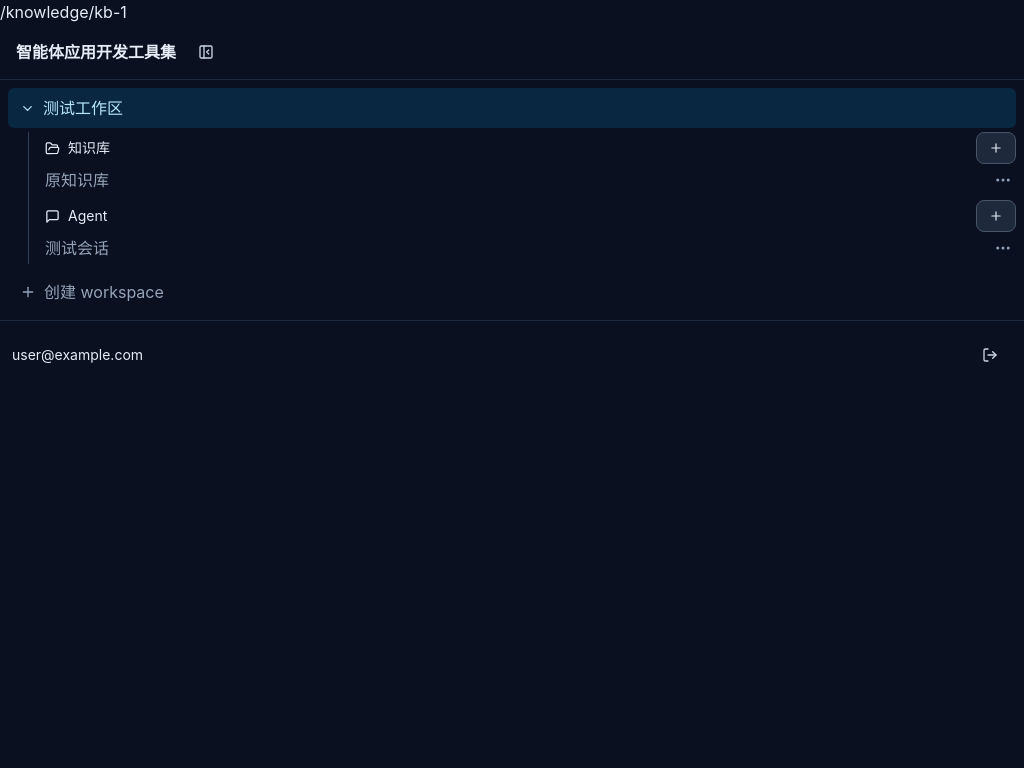
it: knowledge deletion requires confirmation and reports bound sessions
Click the button named "知识库操作：原知识库" at (1003, 180), box top-left (990, 167), bottom-right (1016, 193)
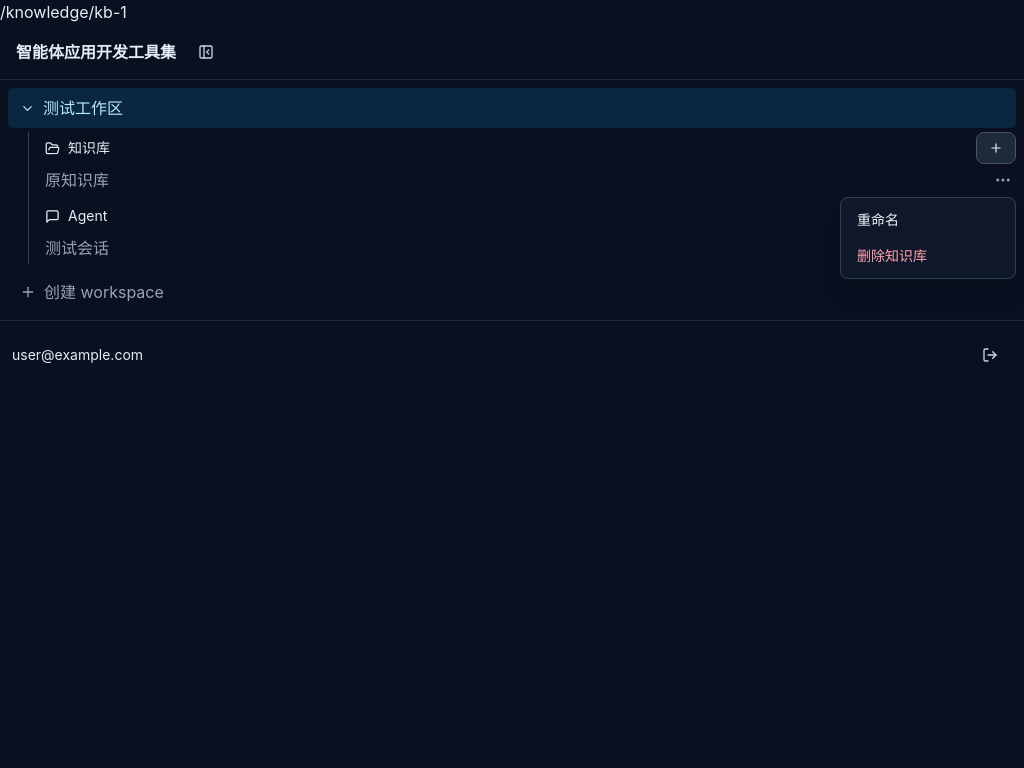
Click the menu item "删除知识库" at (928, 256), box top-left (845, 238), bottom-right (1011, 274)
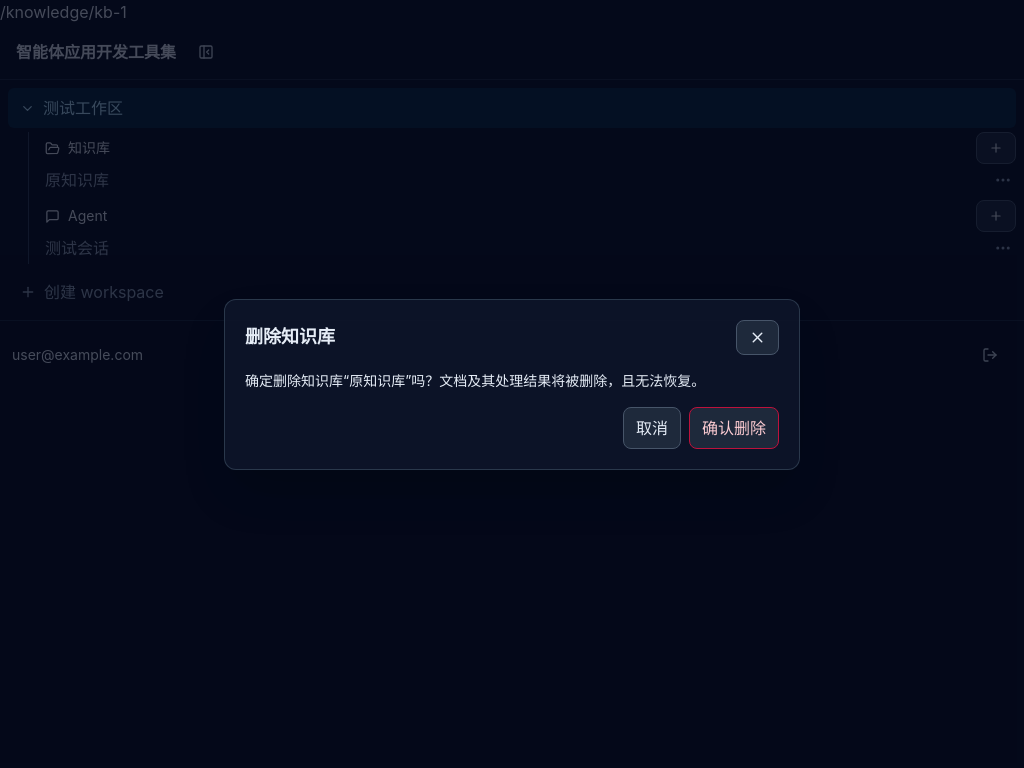
Click the button "取消" at (652, 428), box top-left (623, 406), bottom-right (681, 448)
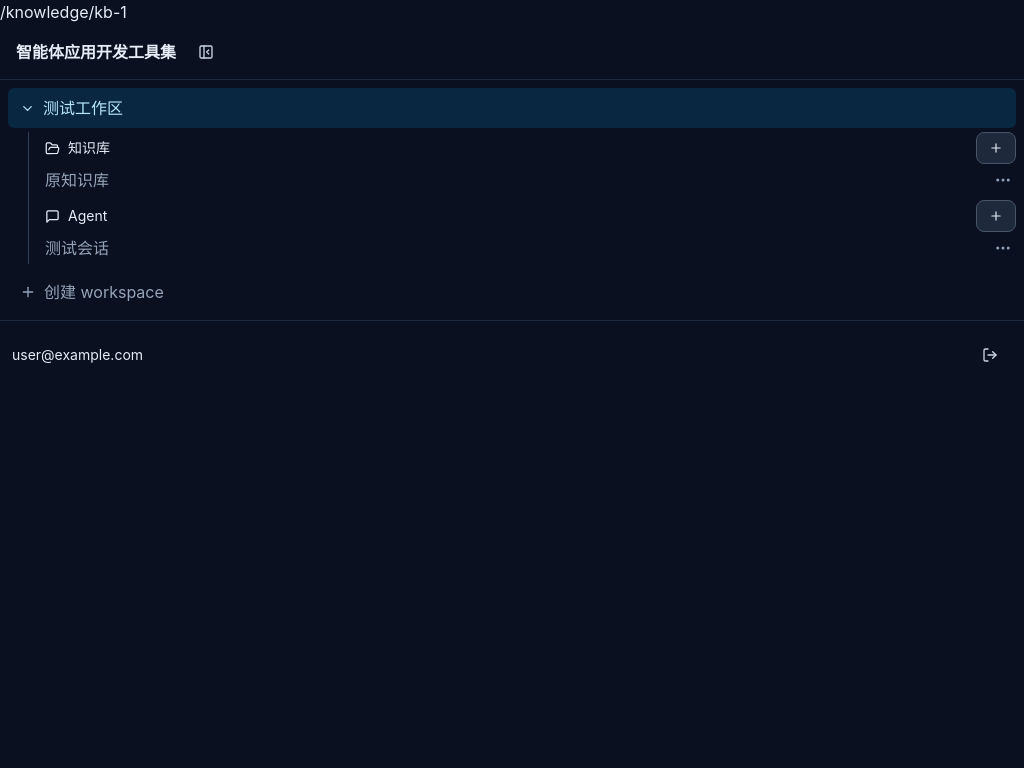
Click the button named "知识库操作：原知识库" at (1003, 180), box top-left (990, 167), bottom-right (1016, 193)
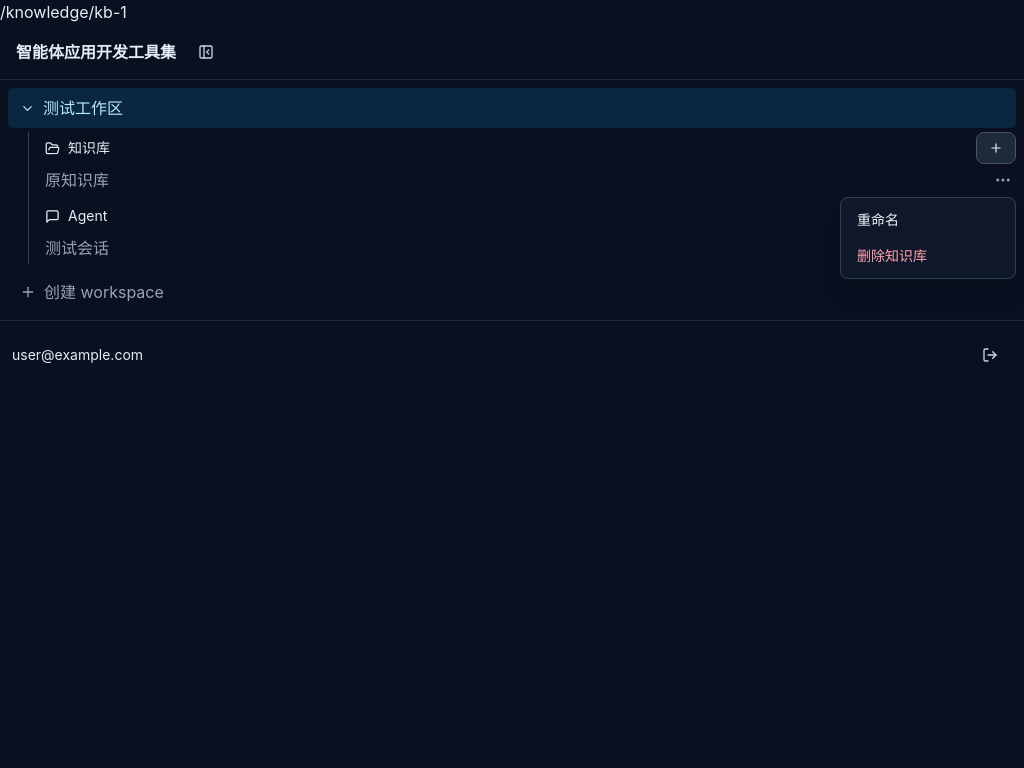
Click the menu item "删除知识库" at (928, 256), box top-left (845, 238), bottom-right (1011, 274)
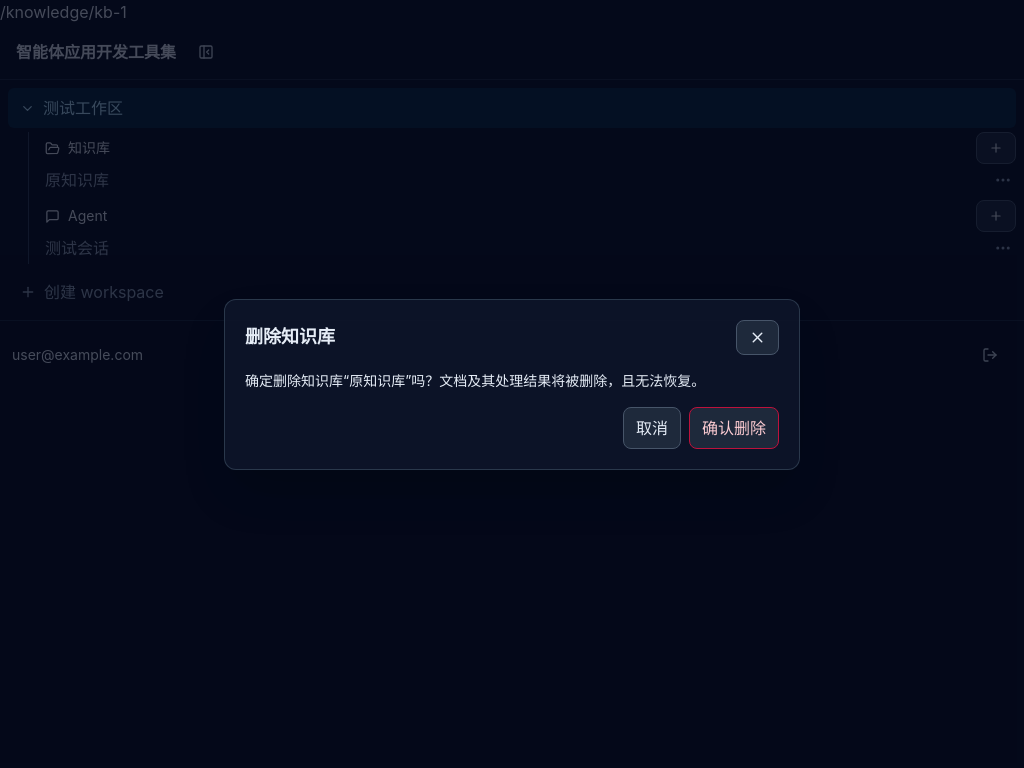
Click the button "确认删除" at (734, 428), box top-left (689, 406), bottom-right (779, 448)
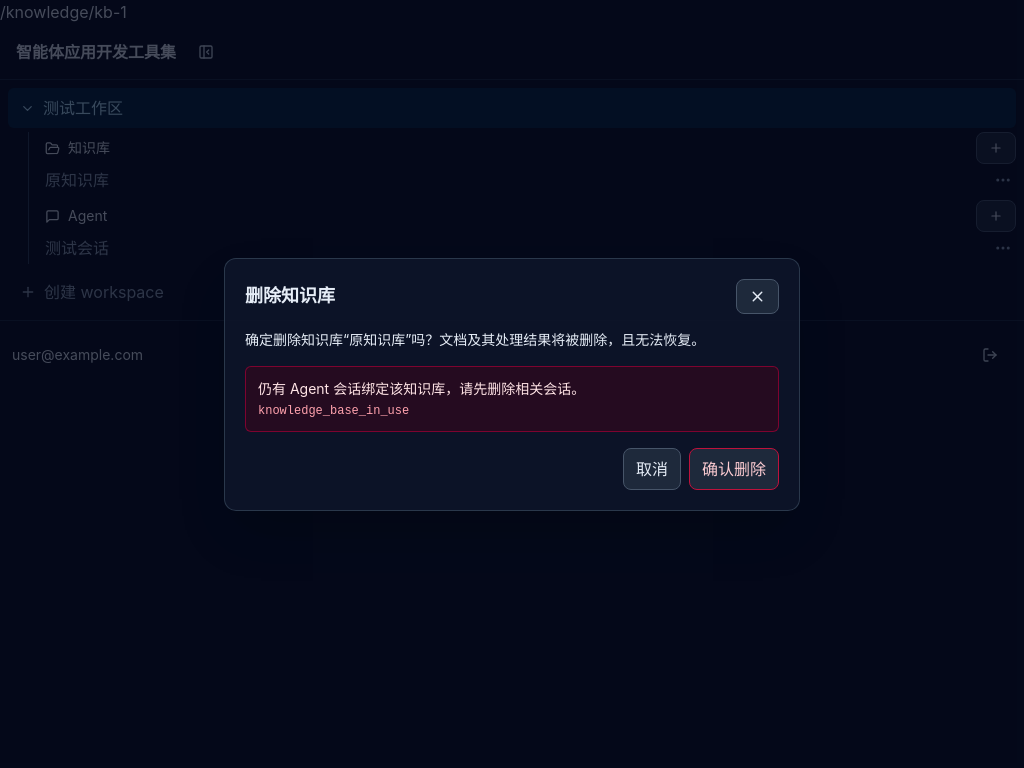
Check: the text with test id "current-path" reads "/knowledge/kb-1", box top-left (0, 2), bottom-right (127, 22)
Check: the text "仍有 Agent 会话绑定该知识库，请先删除相关会话。" is shown, box top-left (258, 380), bottom-right (585, 396)
